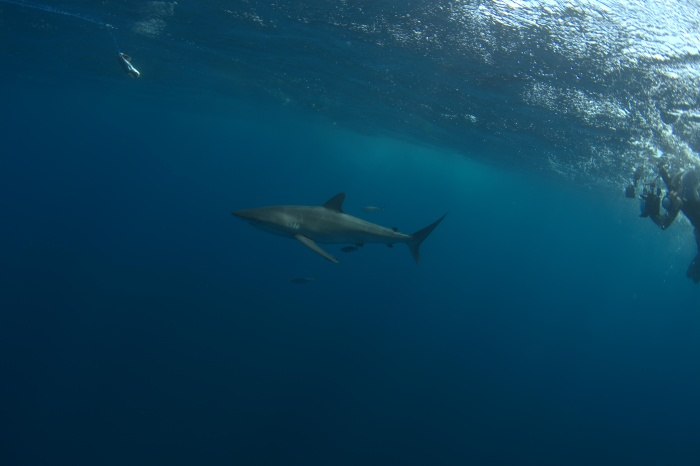Sedoso: (220, 183, 463, 280)
